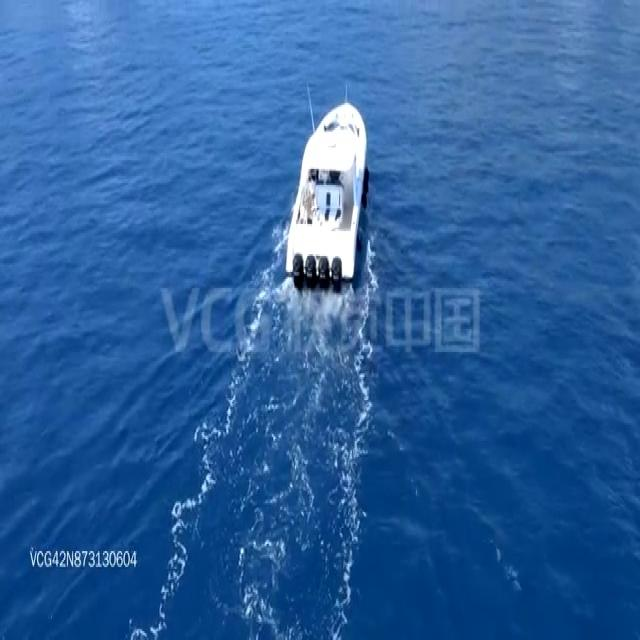houseboat: (285, 96, 369, 280)
